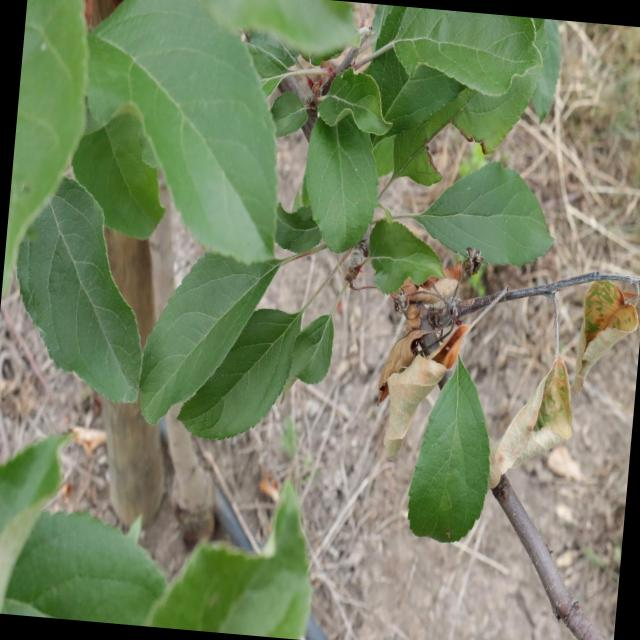-FireBlight-: (473, 269, 630, 487), (367, 255, 483, 464)
